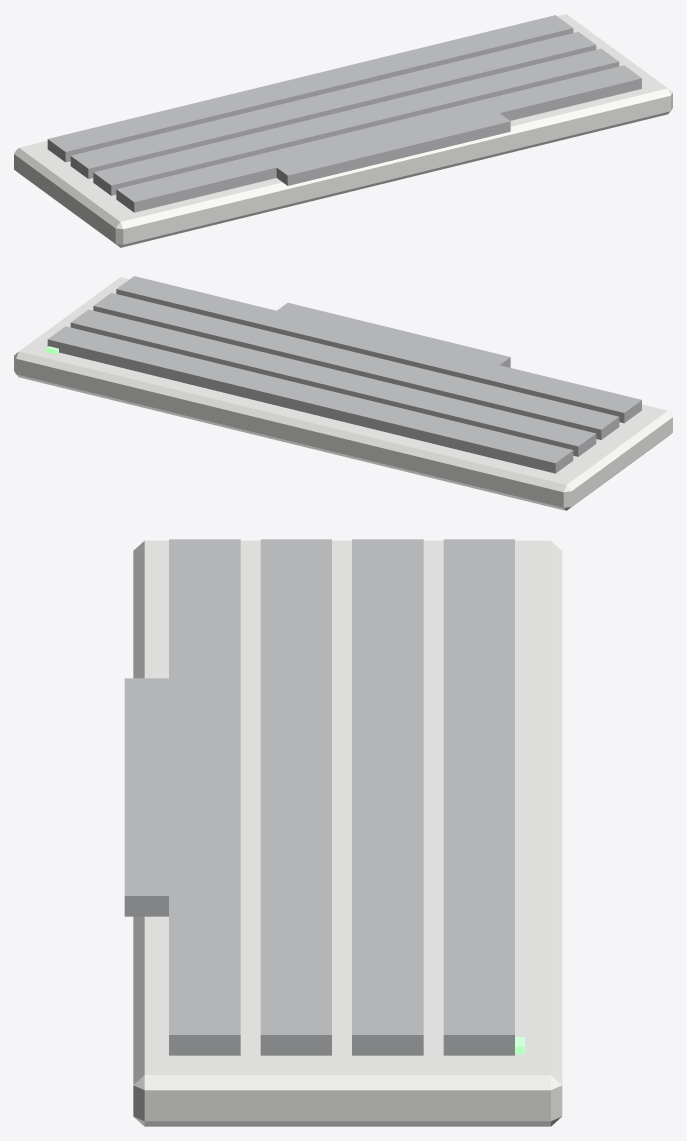
File: keyboard.glb
3 renders of one model, top to bottom at view 1: azimuth 30°, elevation 25°; view 2: azimuth 150°, elevation 25°; view 3: azimuth 270°, elevation 25°, orthographic. The views are drawn at different scales.
Visible parts, largest first — view 1: keyboard; view 2: keyboard; view 3: keyboard.
Part boxes in pixels (left/top/right/bottom): keyboard: left=14, top=14, right=672, bottom=247; keyboard: left=14, top=276, right=672, bottom=510; keyboard: left=124, top=539, right=562, bottom=1126.
Size of the model in its own units: 0.45 by 0.028 by 0.153.
2 materials, 1 textured.
